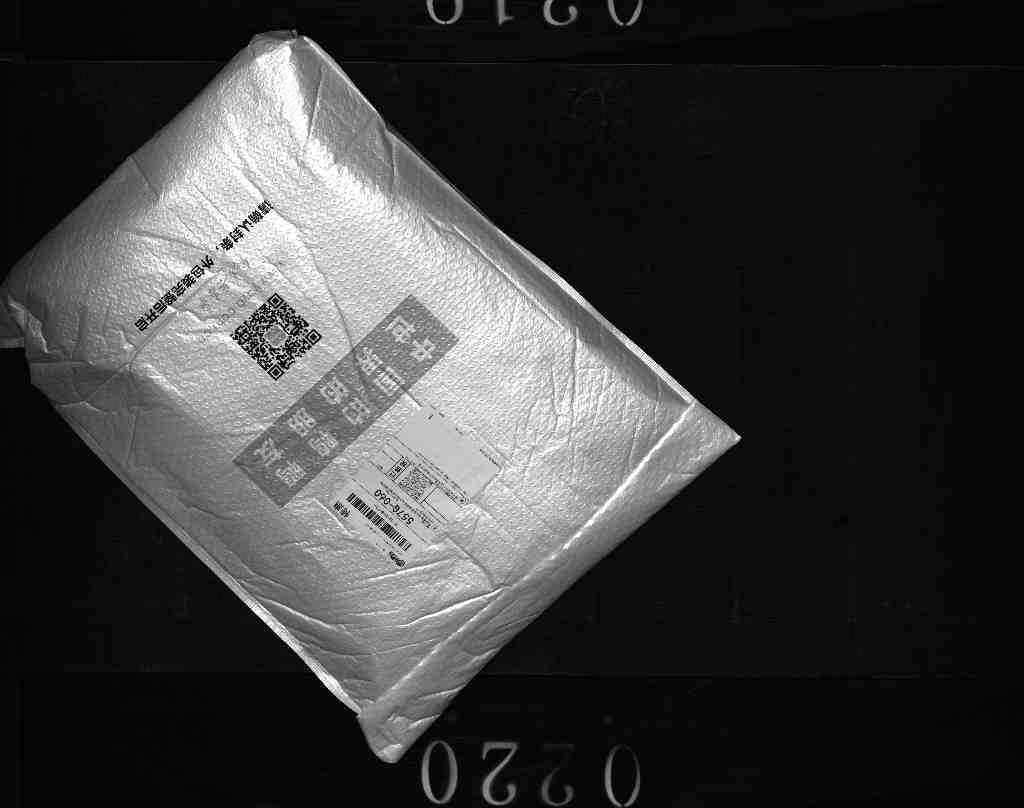box: (15, 32, 739, 761)
